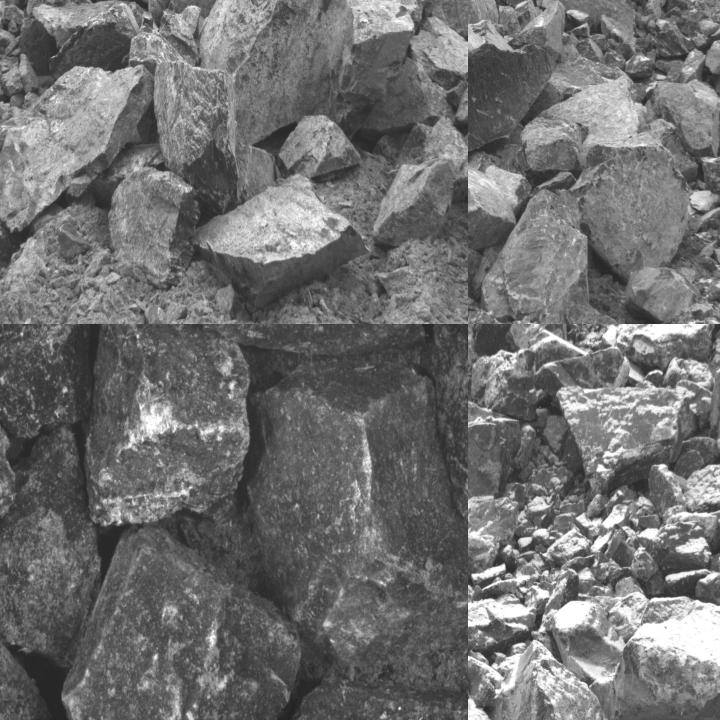stone: (247, 354, 467, 673), (61, 525, 306, 719), (85, 324, 250, 526), (202, 0, 435, 137), (0, 65, 158, 234), (0, 429, 104, 666), (129, 7, 239, 217), (193, 185, 363, 311), (568, 136, 693, 282), (468, 0, 565, 159), (482, 188, 591, 323), (601, 598, 719, 719), (558, 383, 701, 478), (502, 637, 643, 719), (109, 168, 200, 291), (0, 324, 91, 433), (286, 674, 467, 719), (370, 157, 458, 248), (0, 609, 67, 719), (429, 324, 467, 517), (358, 56, 455, 130), (50, 3, 140, 80), (542, 75, 646, 141), (468, 151, 517, 276), (550, 601, 626, 681), (645, 81, 719, 160), (279, 115, 360, 182), (468, 424, 511, 544), (410, 13, 467, 100), (470, 350, 541, 418), (536, 346, 628, 397), (468, 494, 520, 575), (625, 268, 700, 323), (539, 0, 636, 42), (468, 596, 538, 651), (636, 520, 712, 570), (520, 117, 583, 171), (235, 144, 277, 200), (0, 202, 27, 289), (426, 0, 467, 43), (485, 0, 539, 30), (685, 462, 719, 507), (654, 20, 688, 58), (567, 301, 622, 323), (707, 363, 719, 445), (700, 147, 719, 198), (18, 51, 39, 93), (452, 77, 467, 133), (703, 29, 719, 77), (576, 36, 603, 64), (0, 23, 15, 55), (0, 79, 11, 119)
